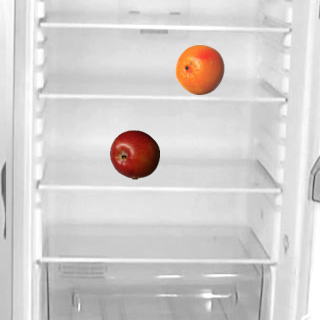Apple Braeburn: (109, 129, 159, 179)
Grapefruit Pink: (174, 44, 224, 94)
